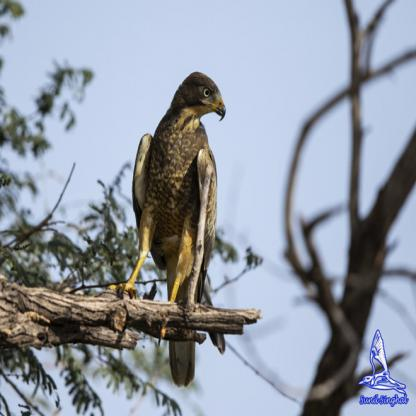Burung: (125, 70, 235, 380)
